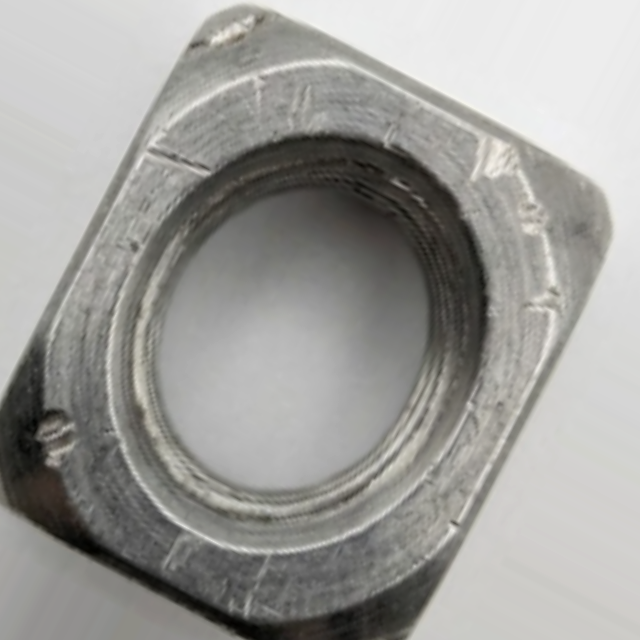defect: (176, 5, 299, 50), (24, 401, 95, 467), (462, 125, 527, 186), (144, 138, 217, 182), (521, 280, 570, 321)
